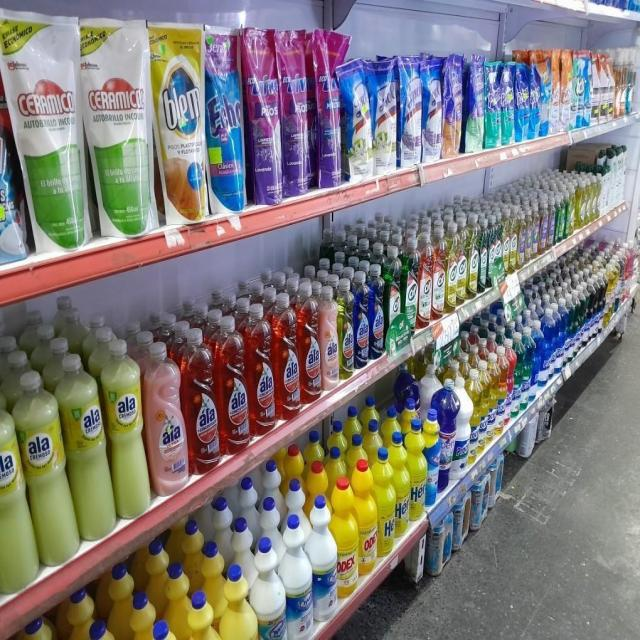ala_conc_amarillo: (338, 276, 354, 381)
ala_conc_azul: (354, 270, 369, 369), (370, 264, 385, 360)
ala_conc_rojo: (186, 327, 218, 476), (219, 314, 249, 454), (249, 302, 274, 438), (275, 292, 299, 422), (300, 280, 320, 404)
ala_crem_amarillo: (25, 368, 72, 570), (66, 351, 111, 544), (108, 338, 147, 520), (0, 389, 31, 596)
ala_ultra_rosa: (147, 338, 186, 497), (321, 284, 338, 392)
cif_conc_bot_amarilla: (468, 213, 479, 298), (447, 220, 457, 312), (458, 216, 468, 306), (502, 207, 510, 277), (510, 206, 517, 273), (518, 205, 524, 269)
cif_conc_botella_roja: (418, 230, 432, 325), (432, 224, 446, 319)
cif_conc_botella_verde: (386, 244, 402, 356), (403, 235, 418, 338), (480, 215, 488, 293), (488, 213, 495, 288), (495, 212, 502, 284)
cif_conc_sachet_amarillo: (157, 21, 204, 222)
magistral_con_azul: (542, 300, 559, 367)
